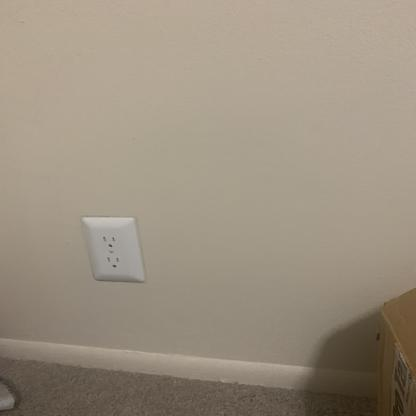OUTLET: (80, 215, 146, 281)
